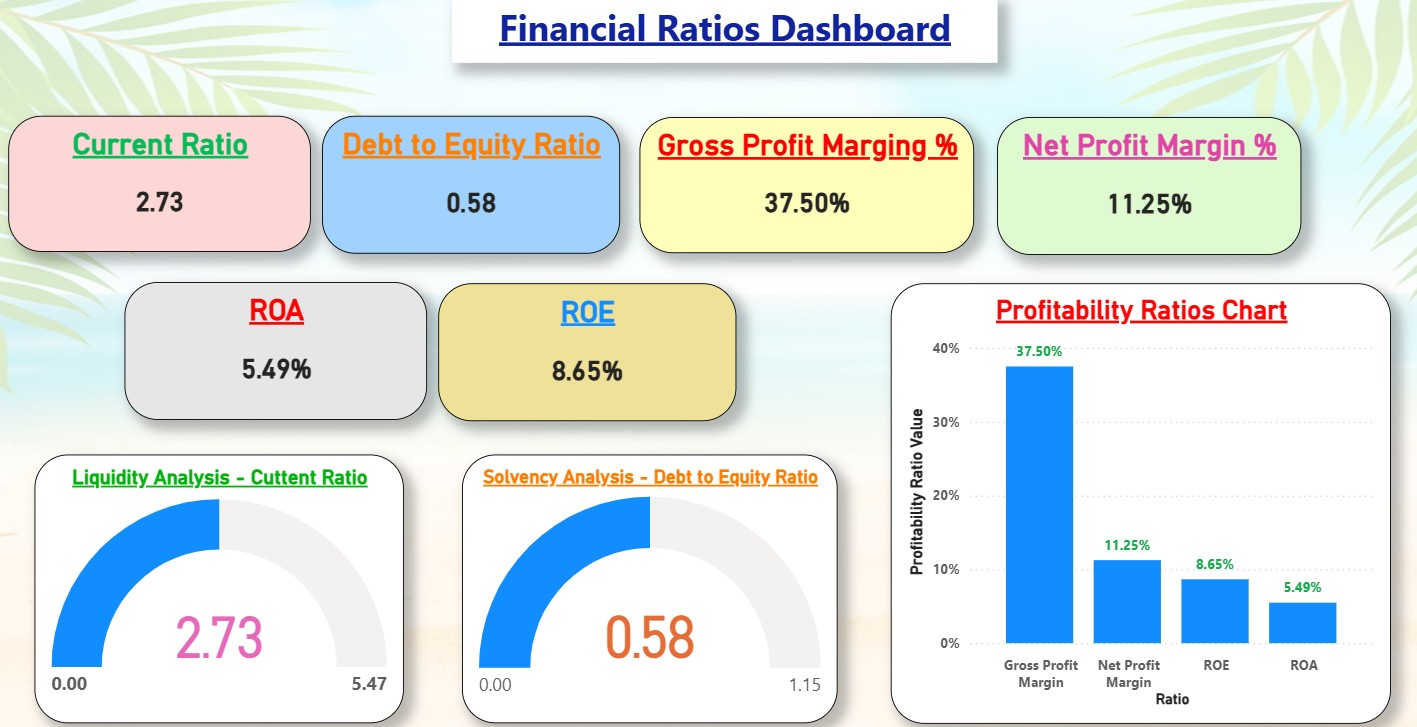

The page's visual inventory and layout, read from the dashboard file:
{"tool":"powerbi","page":{"name":"Financial Ratios Dashboard","canvas":[1280,720],"ordinal":4},"visuals":[{"type":"textbox","box":[408.5,0,490.8,59.4],"z":0},{"type":"card","title":"Current Ratio","fields":{"Values":["Measures 1.Current Ratio"]},"box":[10.2,106.2,272.1,122.2],"z":1000},{"type":"card","title":"Debt to Equity Ratio","fields":{"Values":["Measures 1.Debt to Equity Ratio"]},"box":[292.4,106.2,267.7,123.7],"z":2000},{"type":"card","title":"Gross Profit Marging %","fields":{"Values":["Measures 1.Gross Profit Margin %"]},"box":[577.6,107.7,301.2,122.2],"z":3000},{"type":"card","title":"Net Profit Margin %","fields":{"Values":["Measures 1.Net Profit Margin %"]},"box":[899.1,107.7,273.5,123.7],"z":4000},{"type":"card","title":"ROA","fields":{"Values":["Measures 1.ROA"]},"box":[114.5,256.1,272.1,123.7],"z":5000},{"type":"card","title":"ROE","fields":{"Values":["Measures 1.ROE"]},"box":[396.8,257.5,267.7,123.7],"z":6000},{"type":"gauge","title":"Liquidity Analysis - Cuttent Ratio","fields":{"Y":["Measures 1.Current Ratio"]},"box":[33.5,411.7,331.7,241.5],"z":7000},{"type":"gauge","title":"Solvency Analysis - Debt to Equity Ratio","fields":{"Y":["Measures 1.Debt to Equity Ratio"]},"box":[417.6,411.7,337.5,241.5],"z":8000},{"type":"clusteredColumnChart","title":"Profitability Ratios Chart","fields":{"Category":["Profitability Ratios.Ratio"],"Y":["Measures 1.Profitability Ratio Value"]},"box":[803.1,257.5,449.6,395.7],"z":9000}]}

Visuals, with their boxes on the page's 1280x720 design canvas (x1, y1, x2, y2). These are canvas units, not pixel positions in the 1417x727 screenshot, which may show the page scaled, cropped or inside an application window:
textbox: 408 0 899 59
"Current Ratio" card: 10 106 282 228
"Debt to Equity Ratio" card: 292 106 560 230
"Gross Profit Marging %" card: 578 108 879 230
"Net Profit Margin %" card: 899 108 1173 231
"ROA" card: 114 256 387 380
"ROE" card: 397 258 664 381
"Liquidity Analysis - Cuttent Ratio" gauge: 34 412 365 653
"Solvency Analysis - Debt to Equity Ratio" gauge: 418 412 755 653
"Profitability Ratios Chart" clusteredColumnChart: 803 258 1253 653
